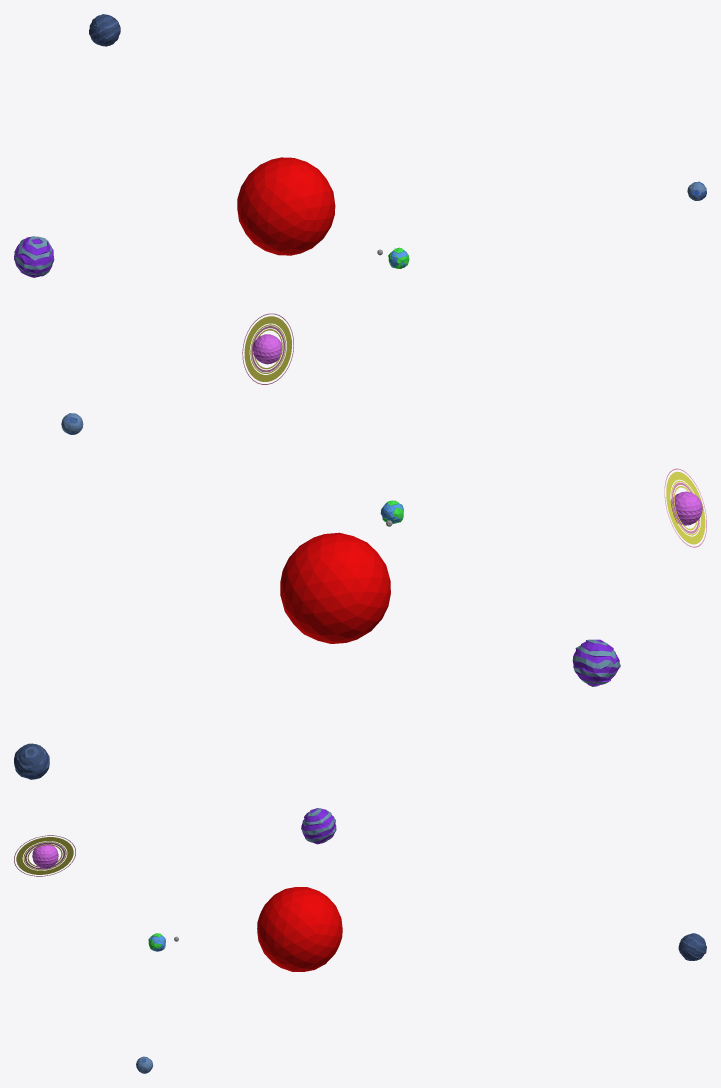
The model's file is planet3.fbx.
The picture shows the model from 3 angles, top to bottom: view 1: azimuth 30°, elevation 25°; view 2: azimuth 150°, elevation 25°; view 3: azimuth 270°, elevation 25°; orthographic projection. The views are drawn at different scales.
Parts seen in each view (by area): view 1: Sun, SaturnsRings, Jupiter, Neptune, Saturn; view 2: Sun, Jupiter, SaturnsRings, Neptune, Saturn; view 3: Sun, SaturnsRings, Jupiter, Neptune, Saturn.
Boxes of the visible parts, x1=… form: Sun: x1=237, y1=157, x2=335, y2=255; SaturnsRings: x1=242, y1=313, x2=293, y2=384; Jupiter: x1=14, y1=236, x2=54, y2=277; Neptune: x1=89, y1=14, x2=120, y2=46; Saturn: x1=252, y1=334, x2=281, y2=364; Sun: x1=280, y1=532, x2=390, y2=643; Jupiter: x1=572, y1=639, x2=620, y2=686; SaturnsRings: x1=664, y1=468, x2=706, y2=547; Neptune: x1=14, y1=743, x2=49, y2=779; Saturn: x1=670, y1=491, x2=702, y2=525; Sun: x1=257, y1=887, x2=342, y2=971; SaturnsRings: x1=14, y1=835, x2=75, y2=876; Jupiter: x1=301, y1=808, x2=336, y2=844; Neptune: x1=678, y1=933, x2=706, y2=960; Saturn: x1=32, y1=844, x2=58, y2=868.
Size of the model in its own units: 65.26 by 9.35 by 76.06.
